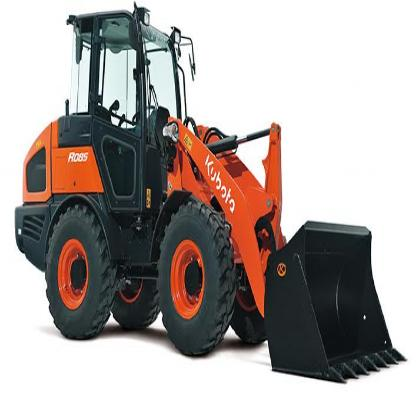bull_dozer/loader/grader: (6, 5, 410, 390)
